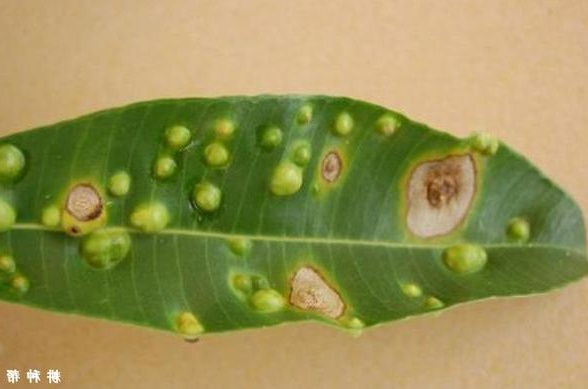Gall_Mite: (88, 123, 533, 250), (17, 79, 230, 271), (199, 212, 490, 332)
